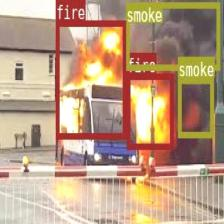fire: (55, 20, 126, 138), (126, 72, 173, 148)
smoke: (125, 2, 219, 69), (177, 78, 213, 136)
